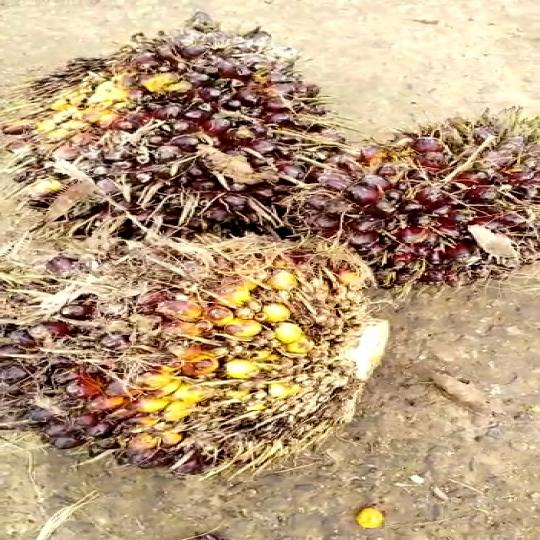kurang masak: (0, 217, 423, 482), (4, 21, 340, 228), (320, 97, 540, 307)
